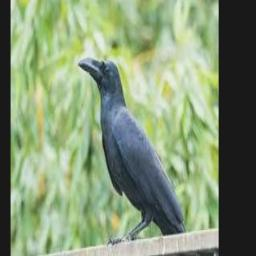Crow: (77, 56, 195, 256)
